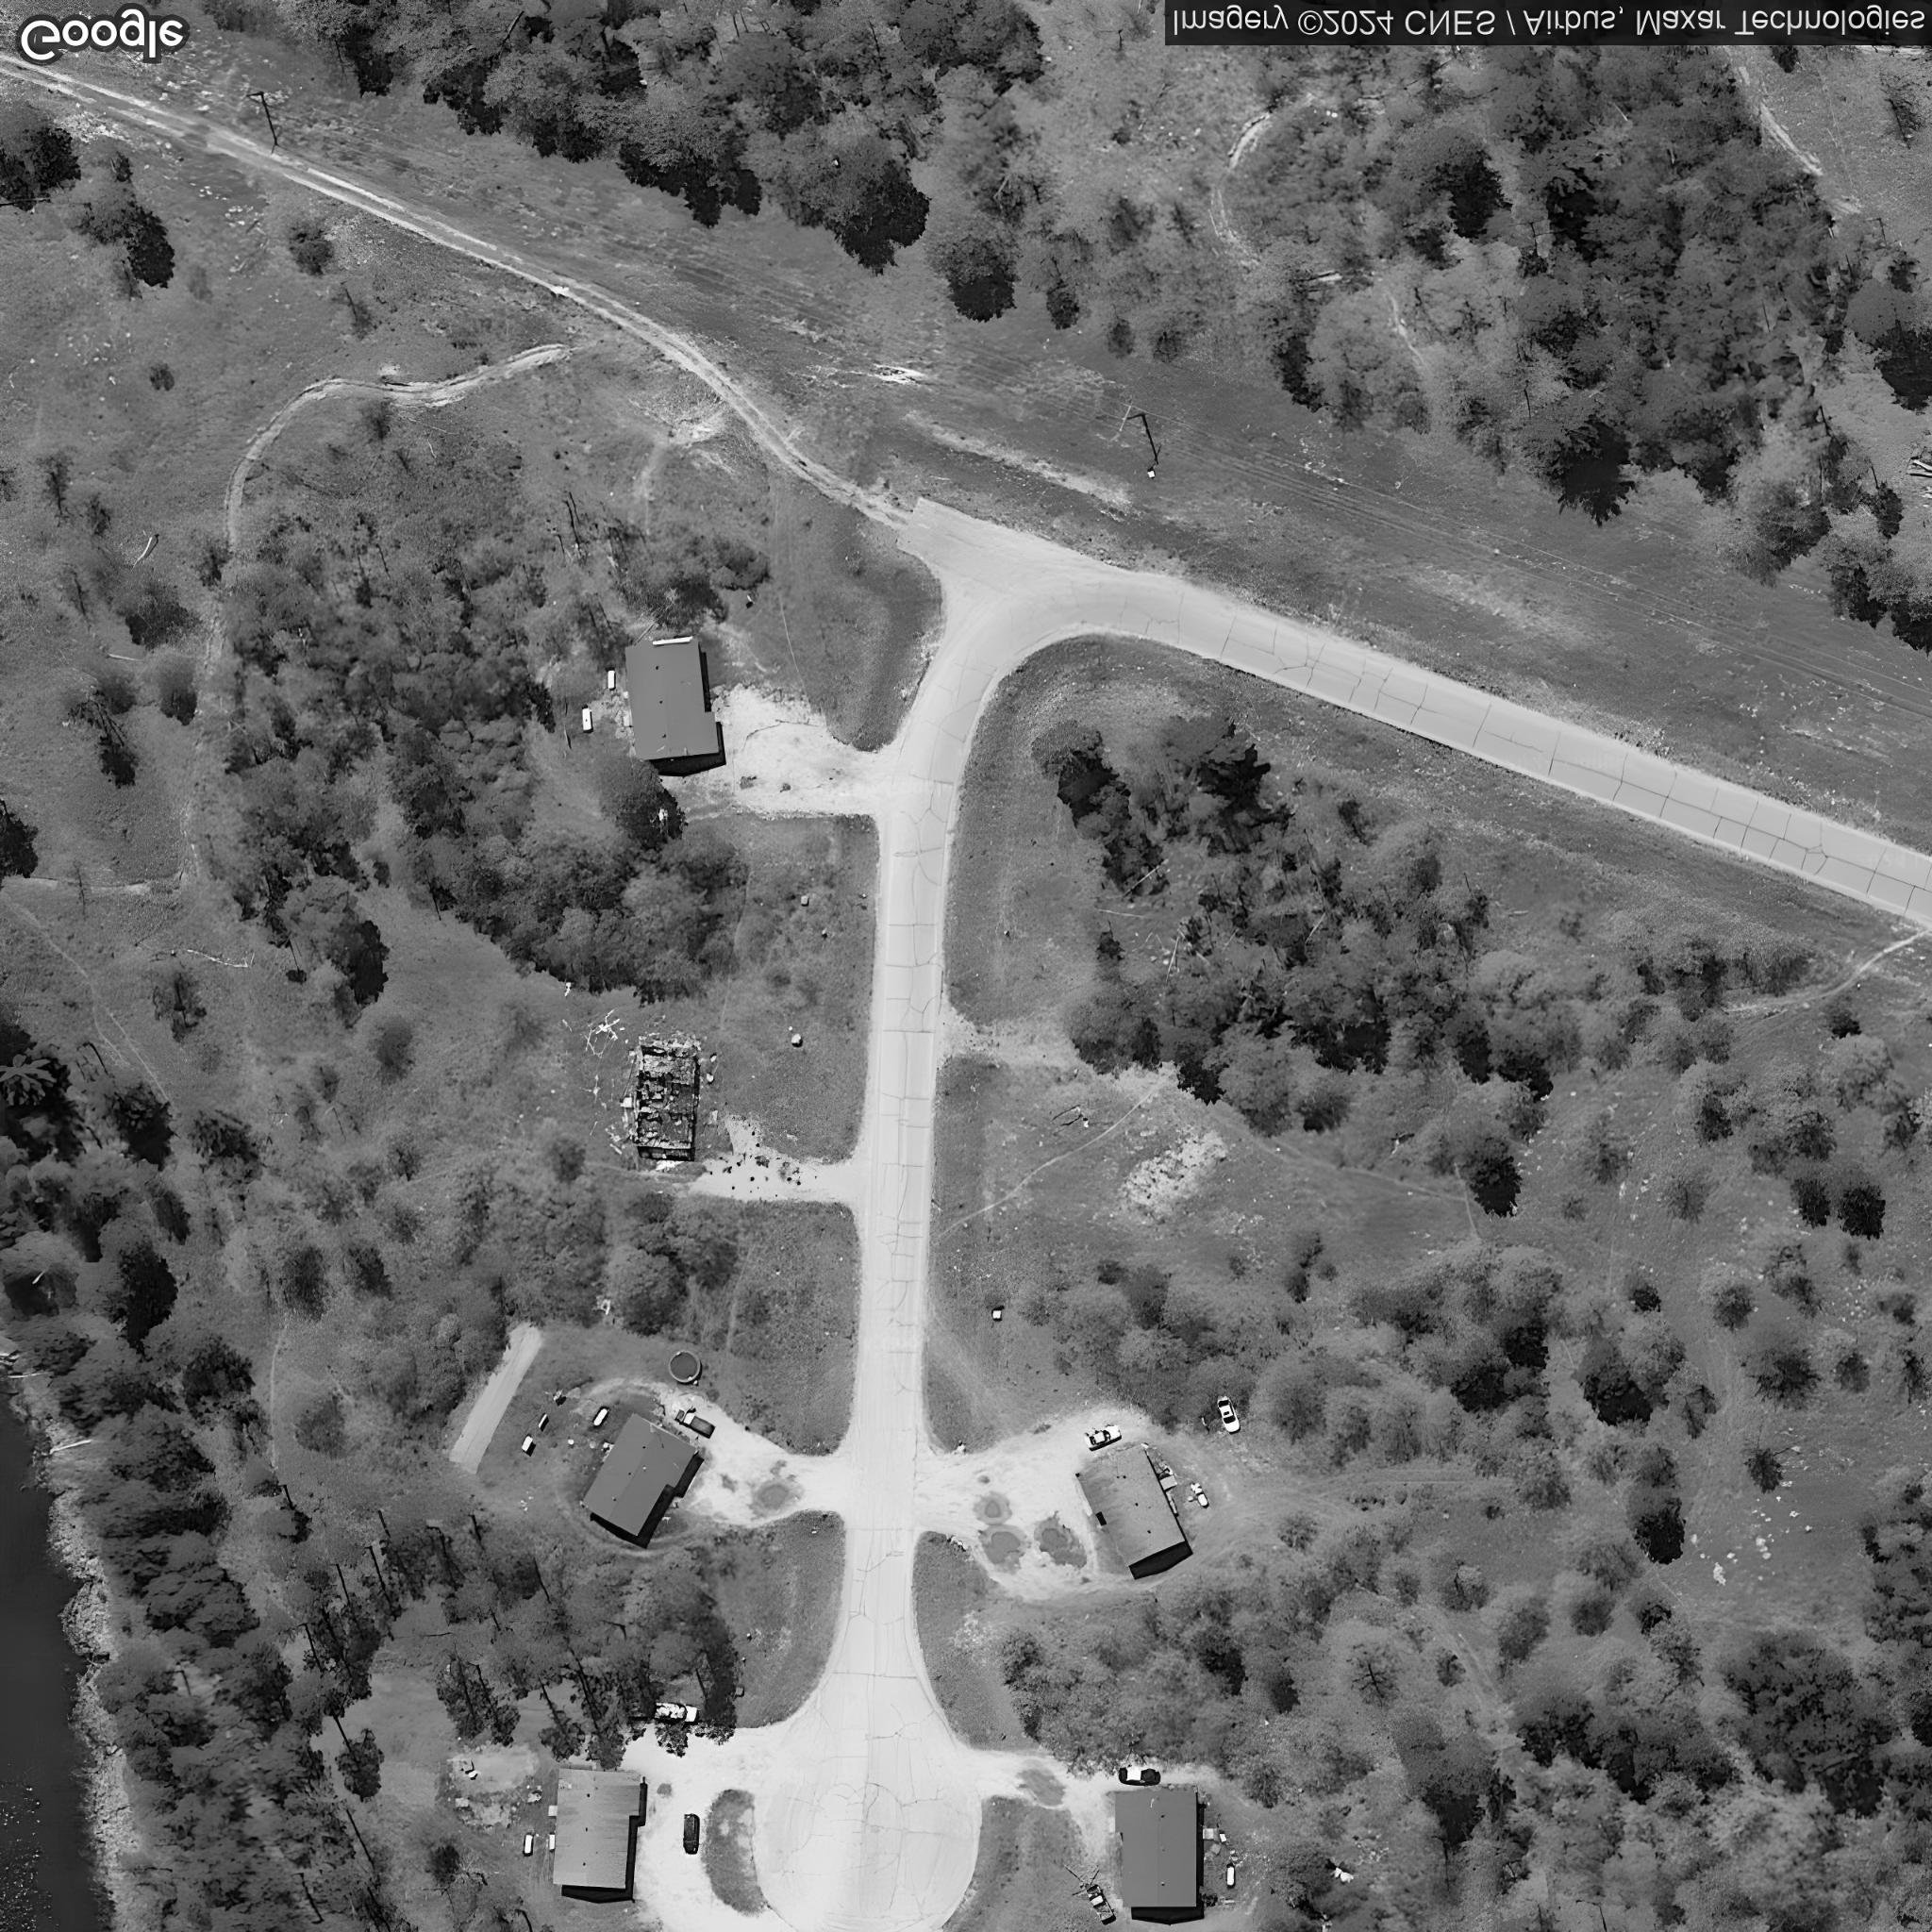House: (579, 1408, 697, 1539), (1072, 1440, 1189, 1571), (621, 635, 720, 761), (552, 1767, 642, 1891), (1111, 1785, 1200, 1909)
Propane: (589, 1403, 614, 1433), (580, 704, 596, 736), (1194, 1488, 1212, 1511), (605, 663, 617, 694), (1224, 1863, 1237, 1891), (522, 1831, 534, 1858)
